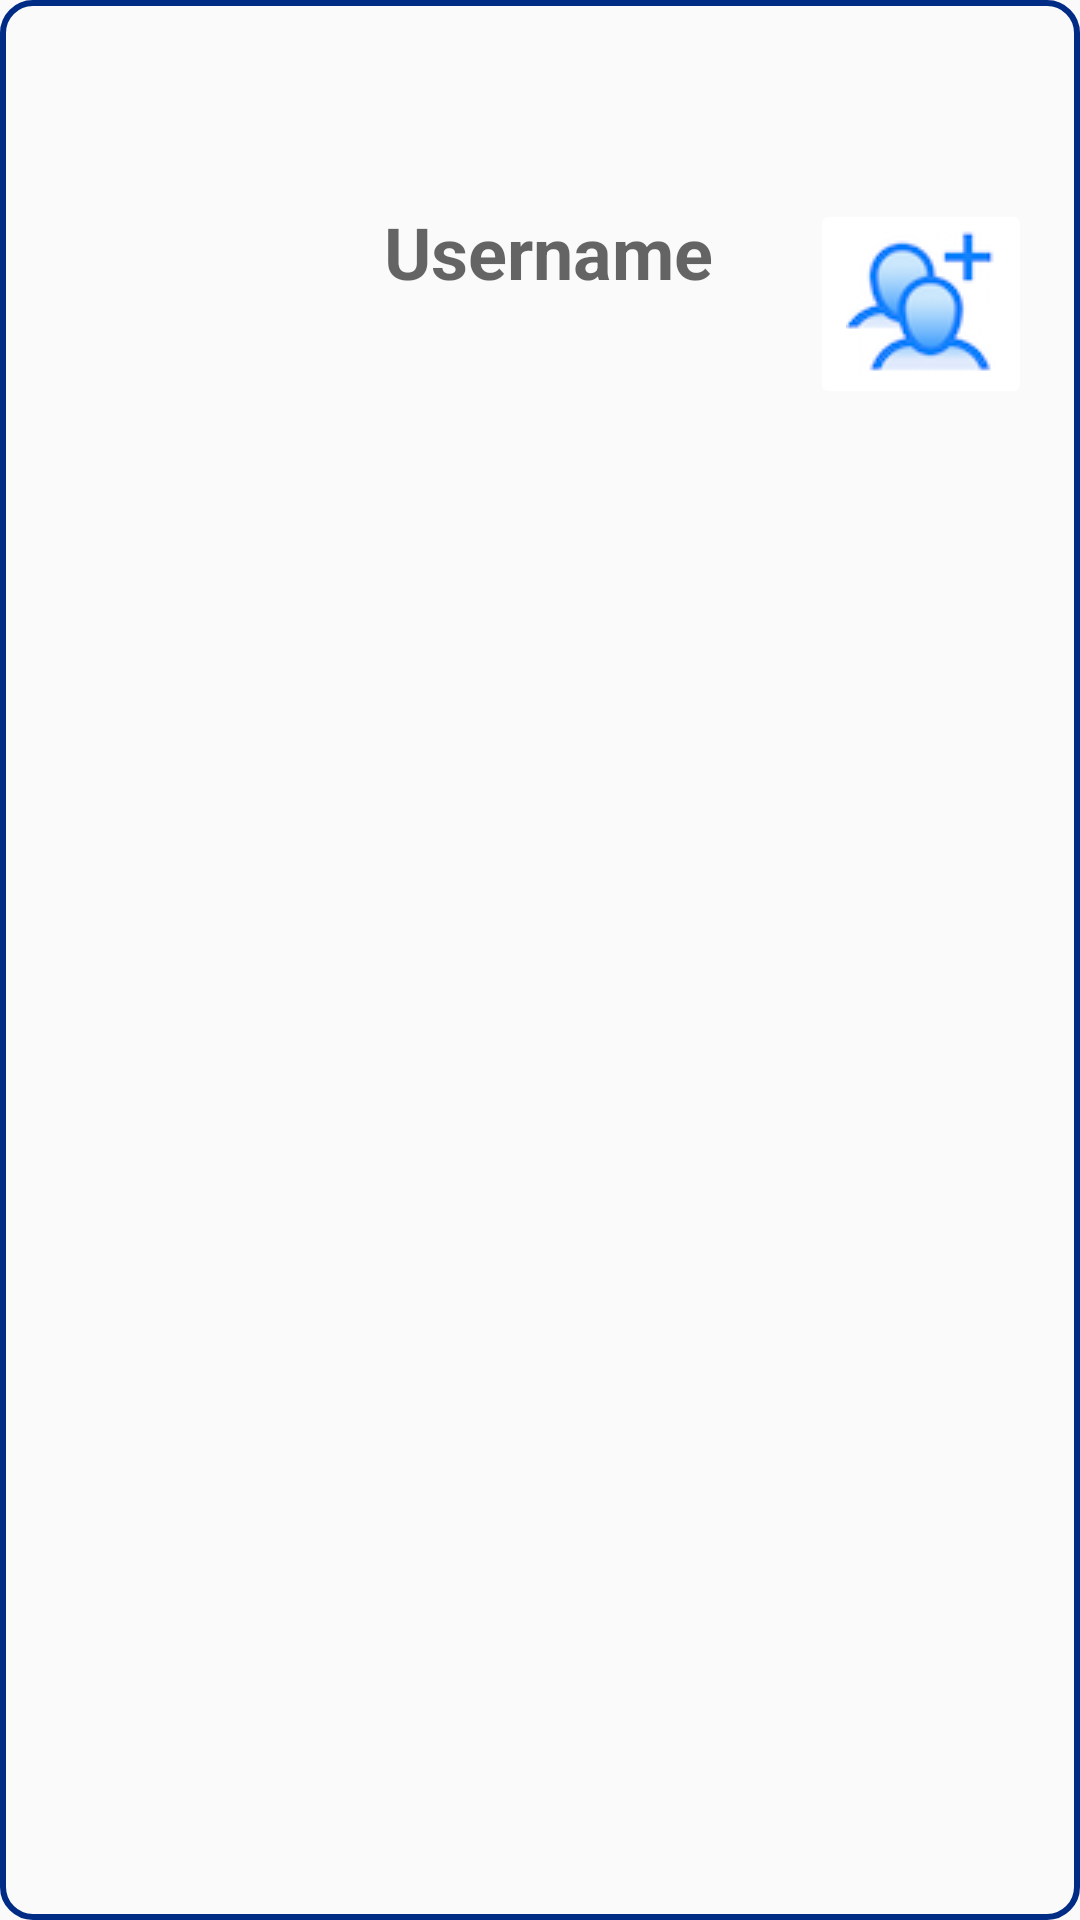

Icon bounding boxes for this 1080*1920 phone screenshot, format (x1, y1, x2, y2):
follow: (846, 232, 993, 371)
